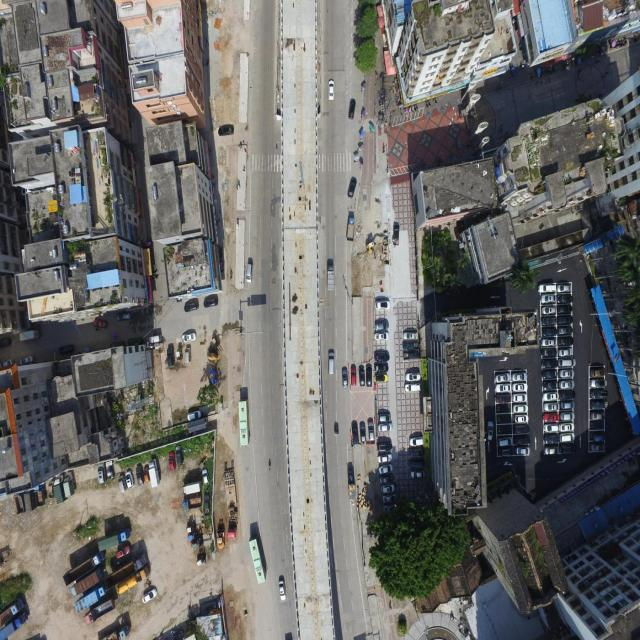tree: (367, 496, 472, 614)
